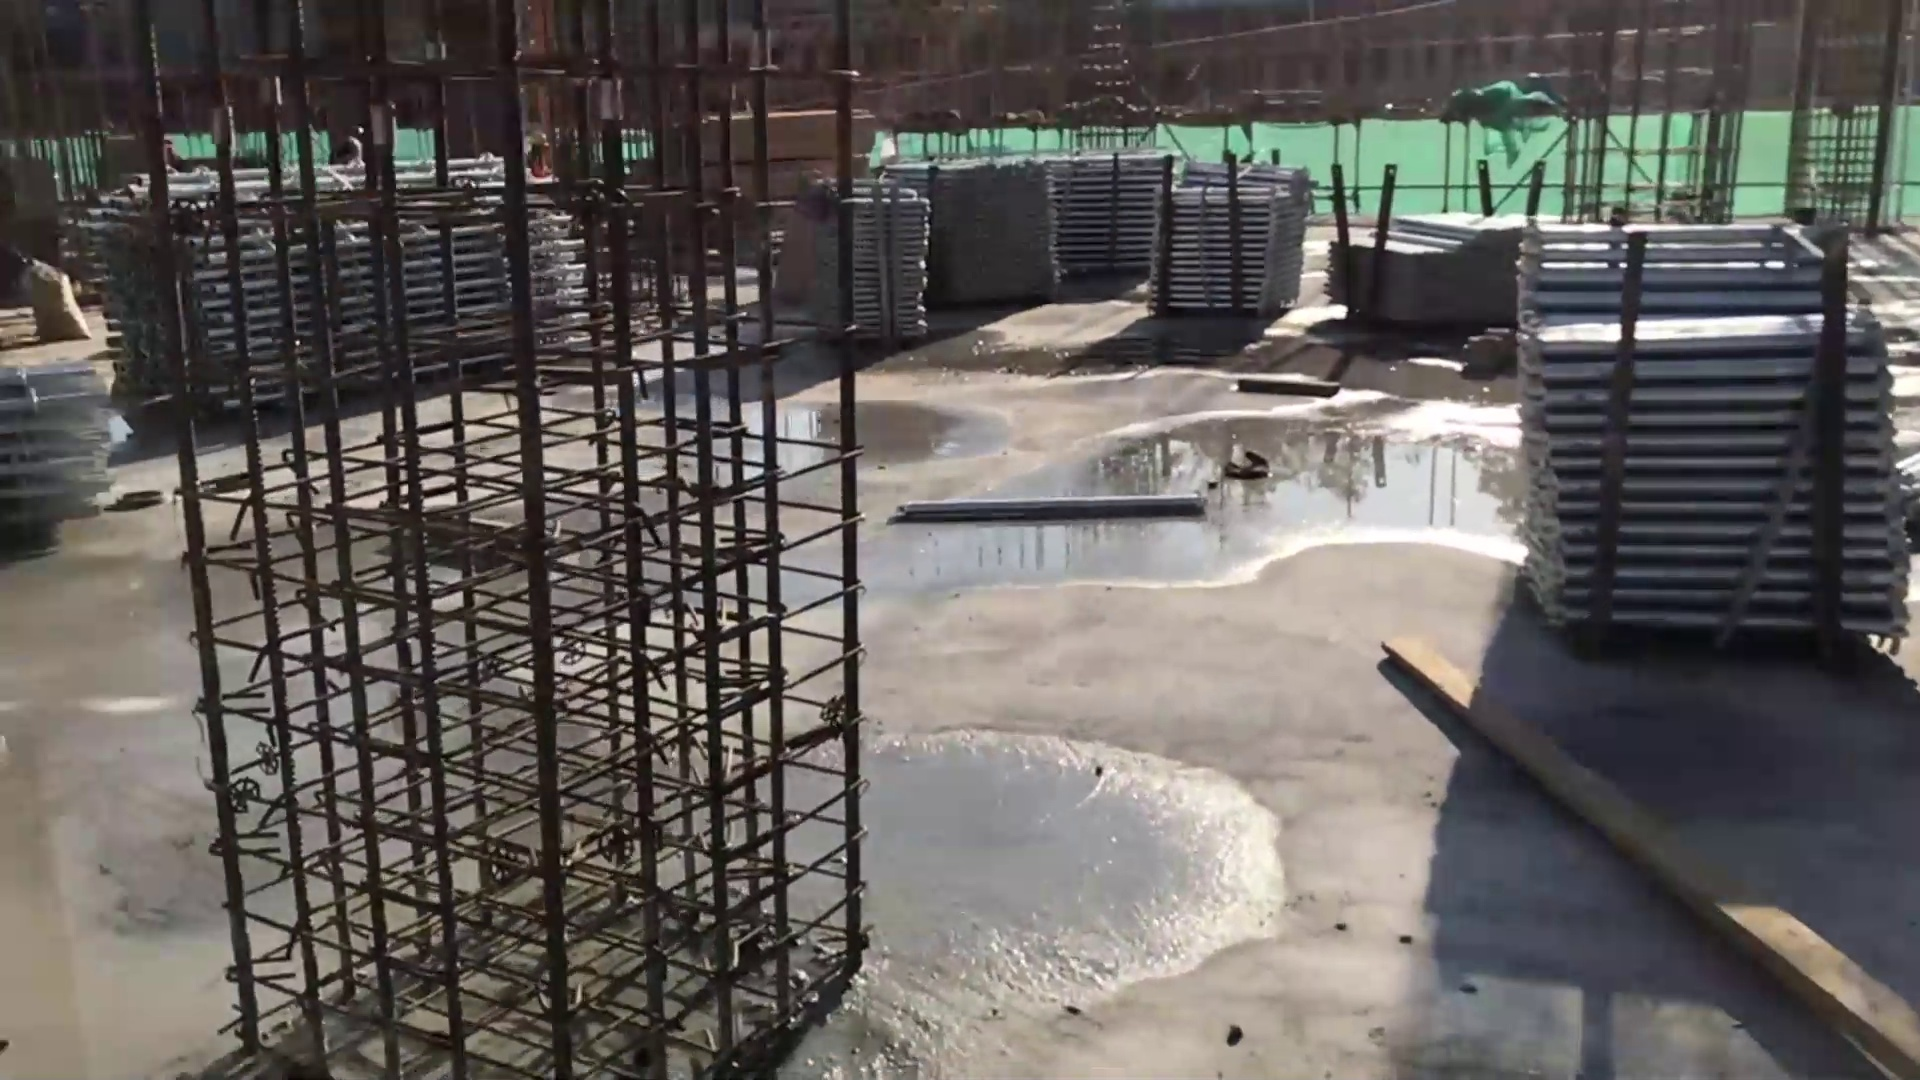scaffold: (1528, 219, 1920, 651), (83, 162, 604, 407), (1156, 149, 1312, 314), (1331, 207, 1513, 334), (852, 187, 936, 339), (1059, 154, 1155, 277)
